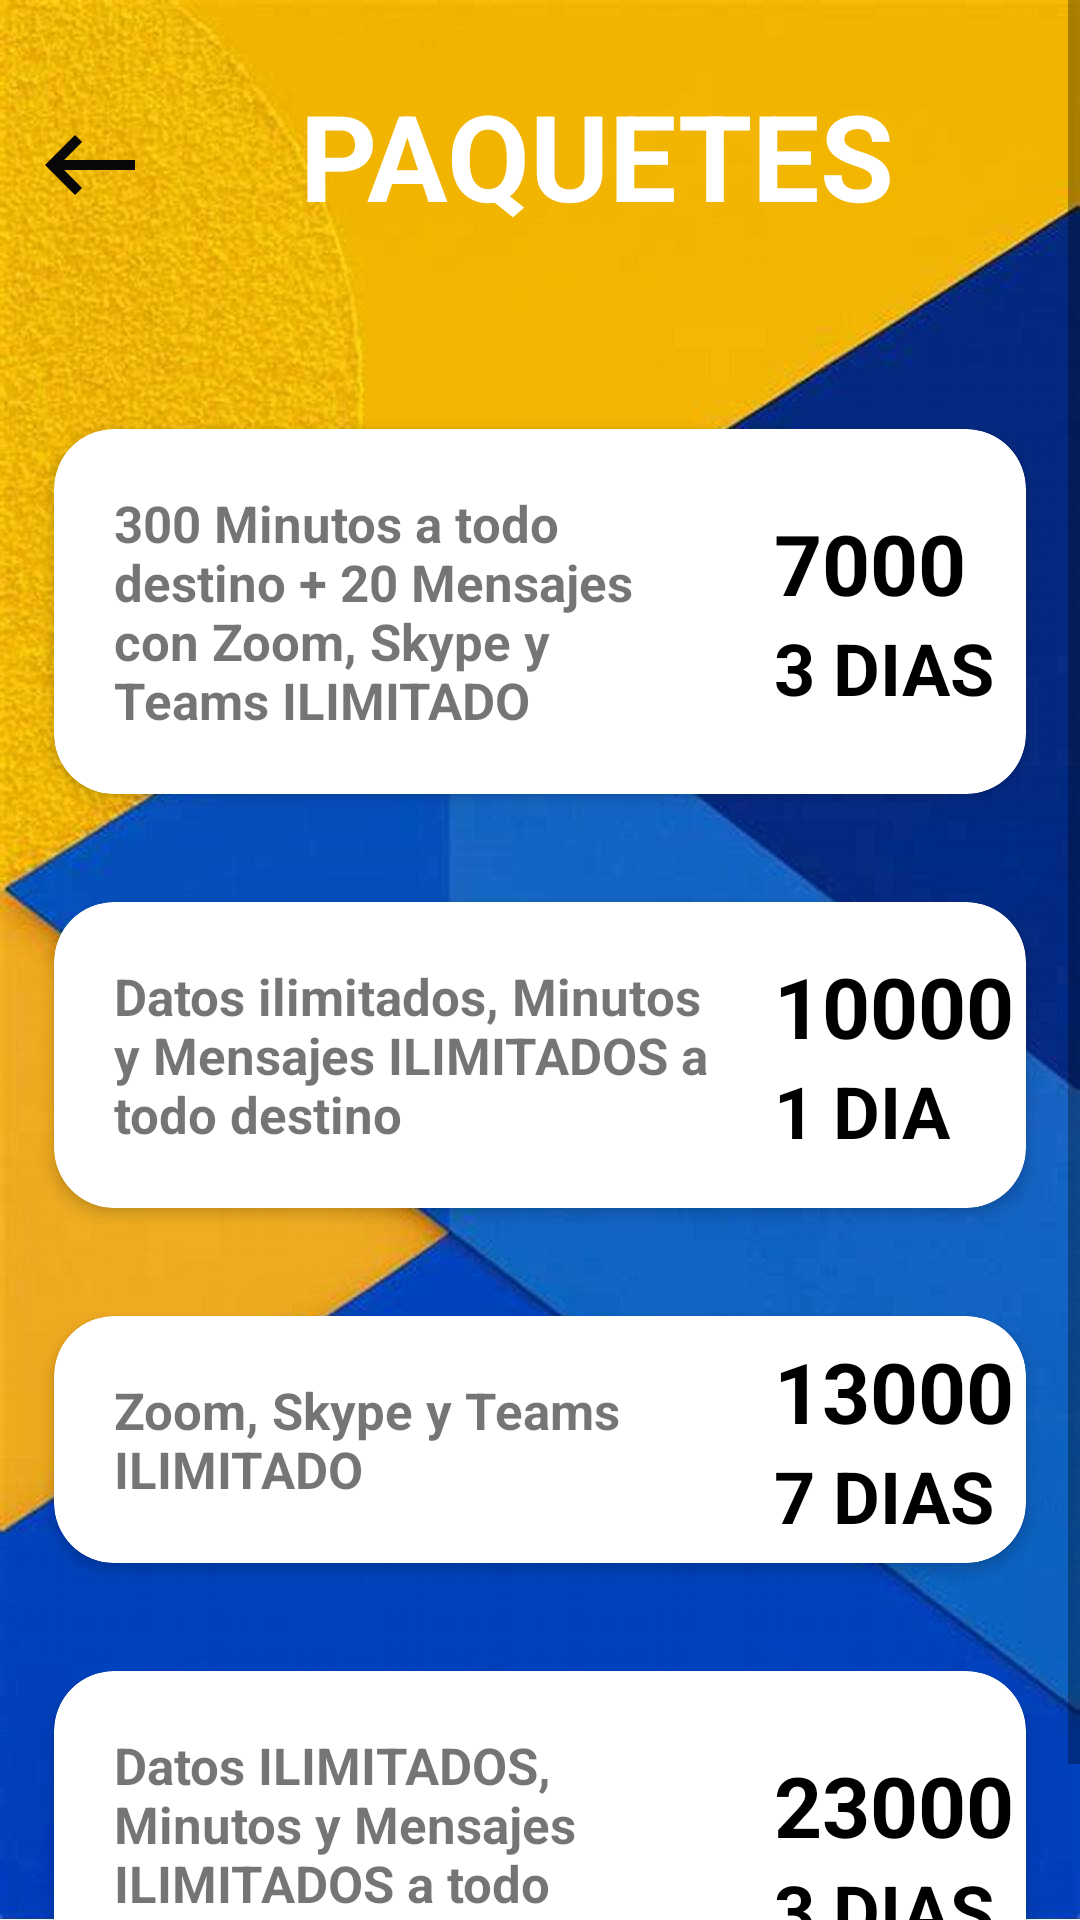

Named icons in this screenshot (1080*1920) and their centers, [x,y]:
retroceder: [90,164]
